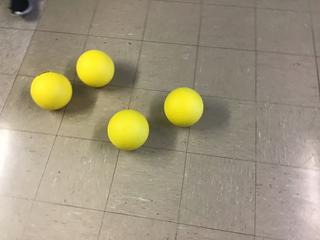power_cell: (27, 71, 76, 112), (163, 86, 206, 130), (106, 108, 150, 150), (76, 48, 118, 91)
